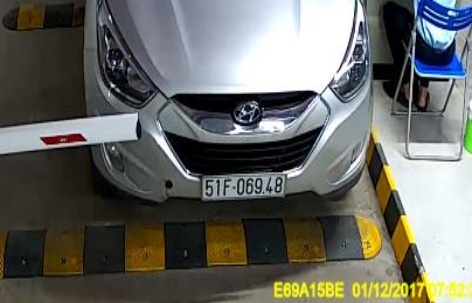plate: (197, 168, 287, 201)
